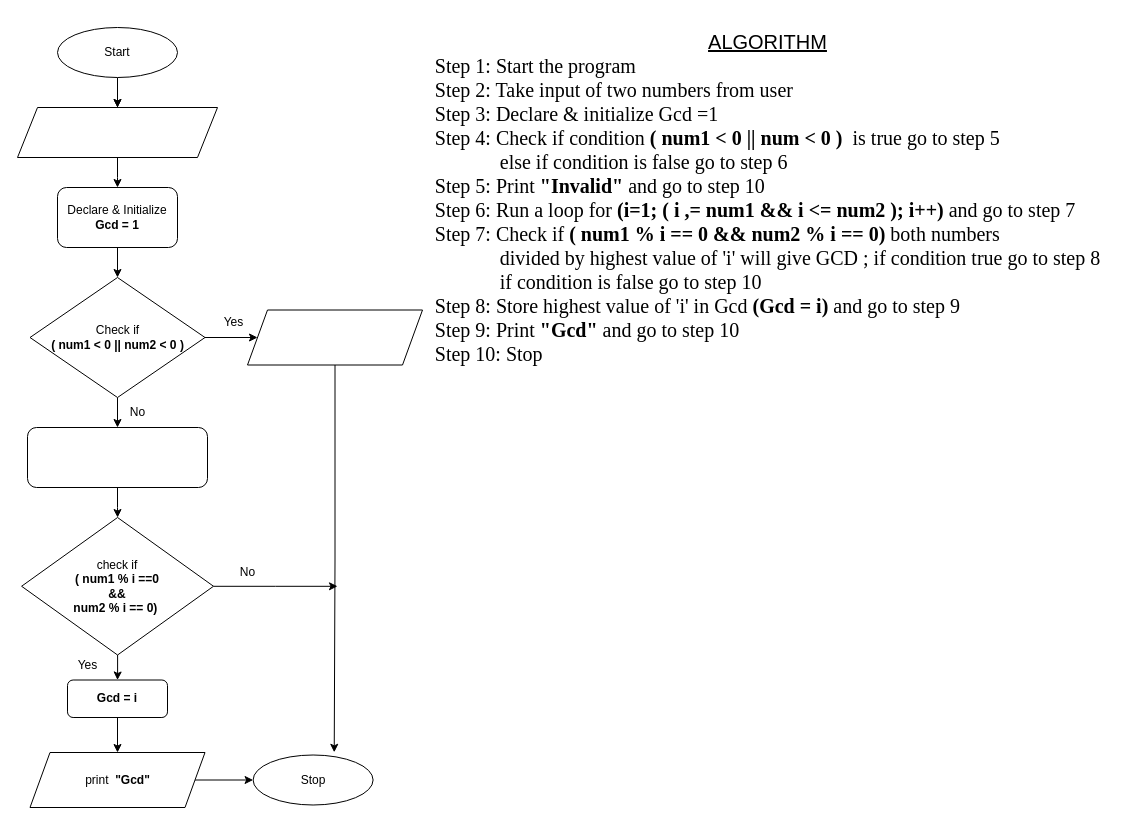
The diagram is 1130 pixels wide and 825 high, and some of its shapes have lost their labels. The centre of each missing label's shape, as x and y in pixels:
Enter two number (num1 and num2): point (117, 132)
for i=1; ( i<= num1 && i <= num2 ); i++;: point (117, 457)
print "Invalid": point (334, 337)
